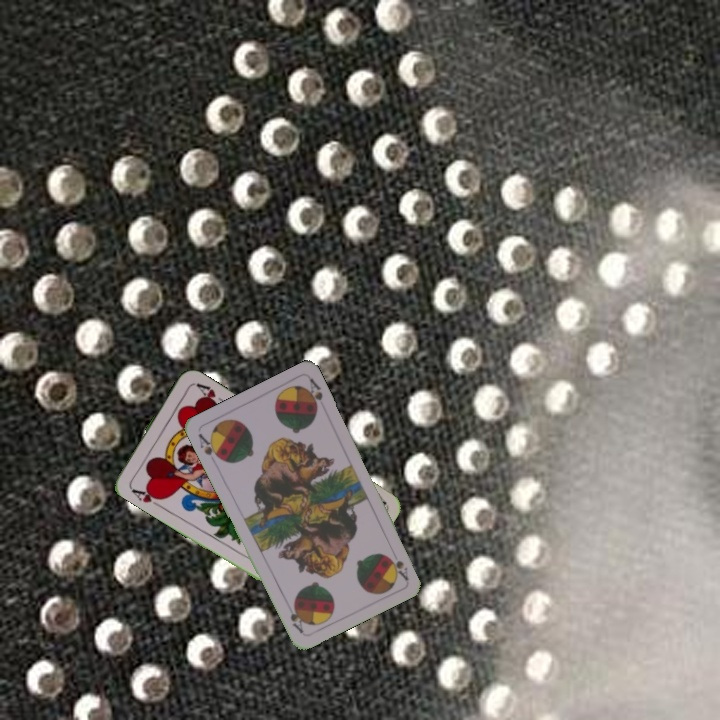HA: (126, 483, 166, 510)
SA: (194, 429, 225, 463), (387, 554, 411, 582)
